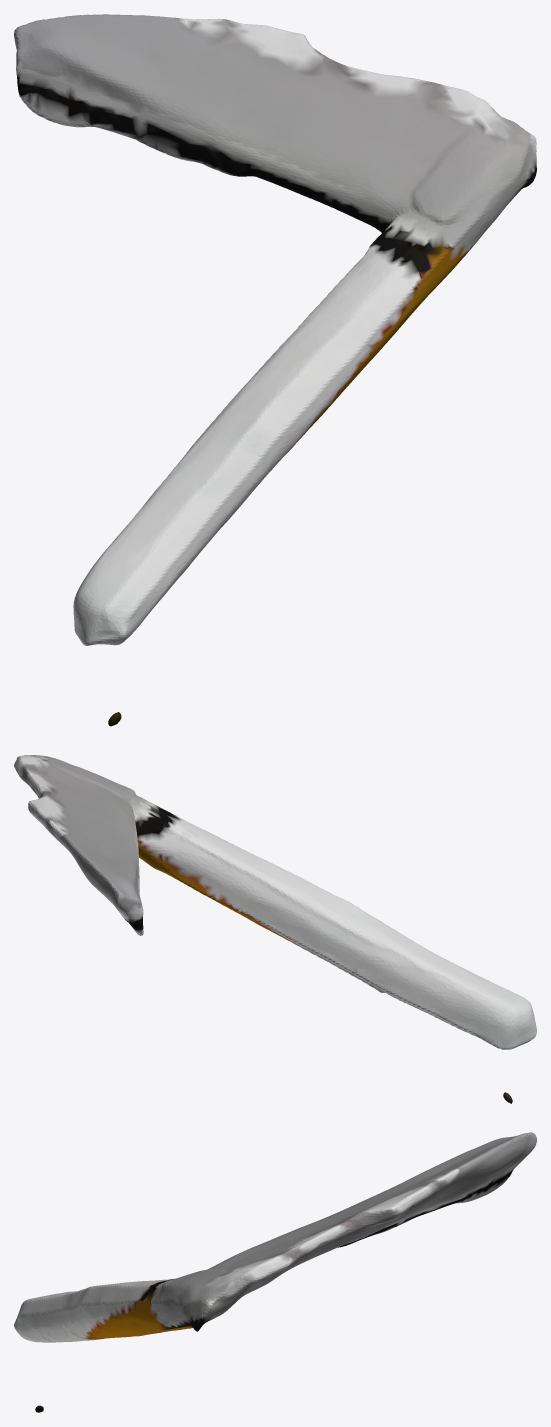
The model's file is scythe_1.glb.
3 views of the same model, one above another, from view 1: azimuth 30°, elevation 25°; view 2: azimuth 150°, elevation 25°; view 3: azimuth 270°, elevation 25° (orthographic). The views are drawn at different scales.
Visible parts, largest first — view 1: geometry_0; view 2: geometry_0; view 3: geometry_0.
Boxes of the visible parts, x1,y1,x2,y2 form: geometry_0: (14, 14, 536, 726); geometry_0: (14, 755, 536, 1103); geometry_0: (14, 1132, 536, 1412).
Size of the model in its own units: 0.875 by 0.6747 by 0.854.
